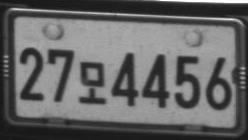2: (18, 47, 45, 101)
4: (141, 52, 170, 109), (110, 52, 138, 107)
5: (173, 55, 200, 108)
6: (205, 57, 232, 110)
7: (47, 47, 75, 102)
모: (78, 60, 106, 105)
